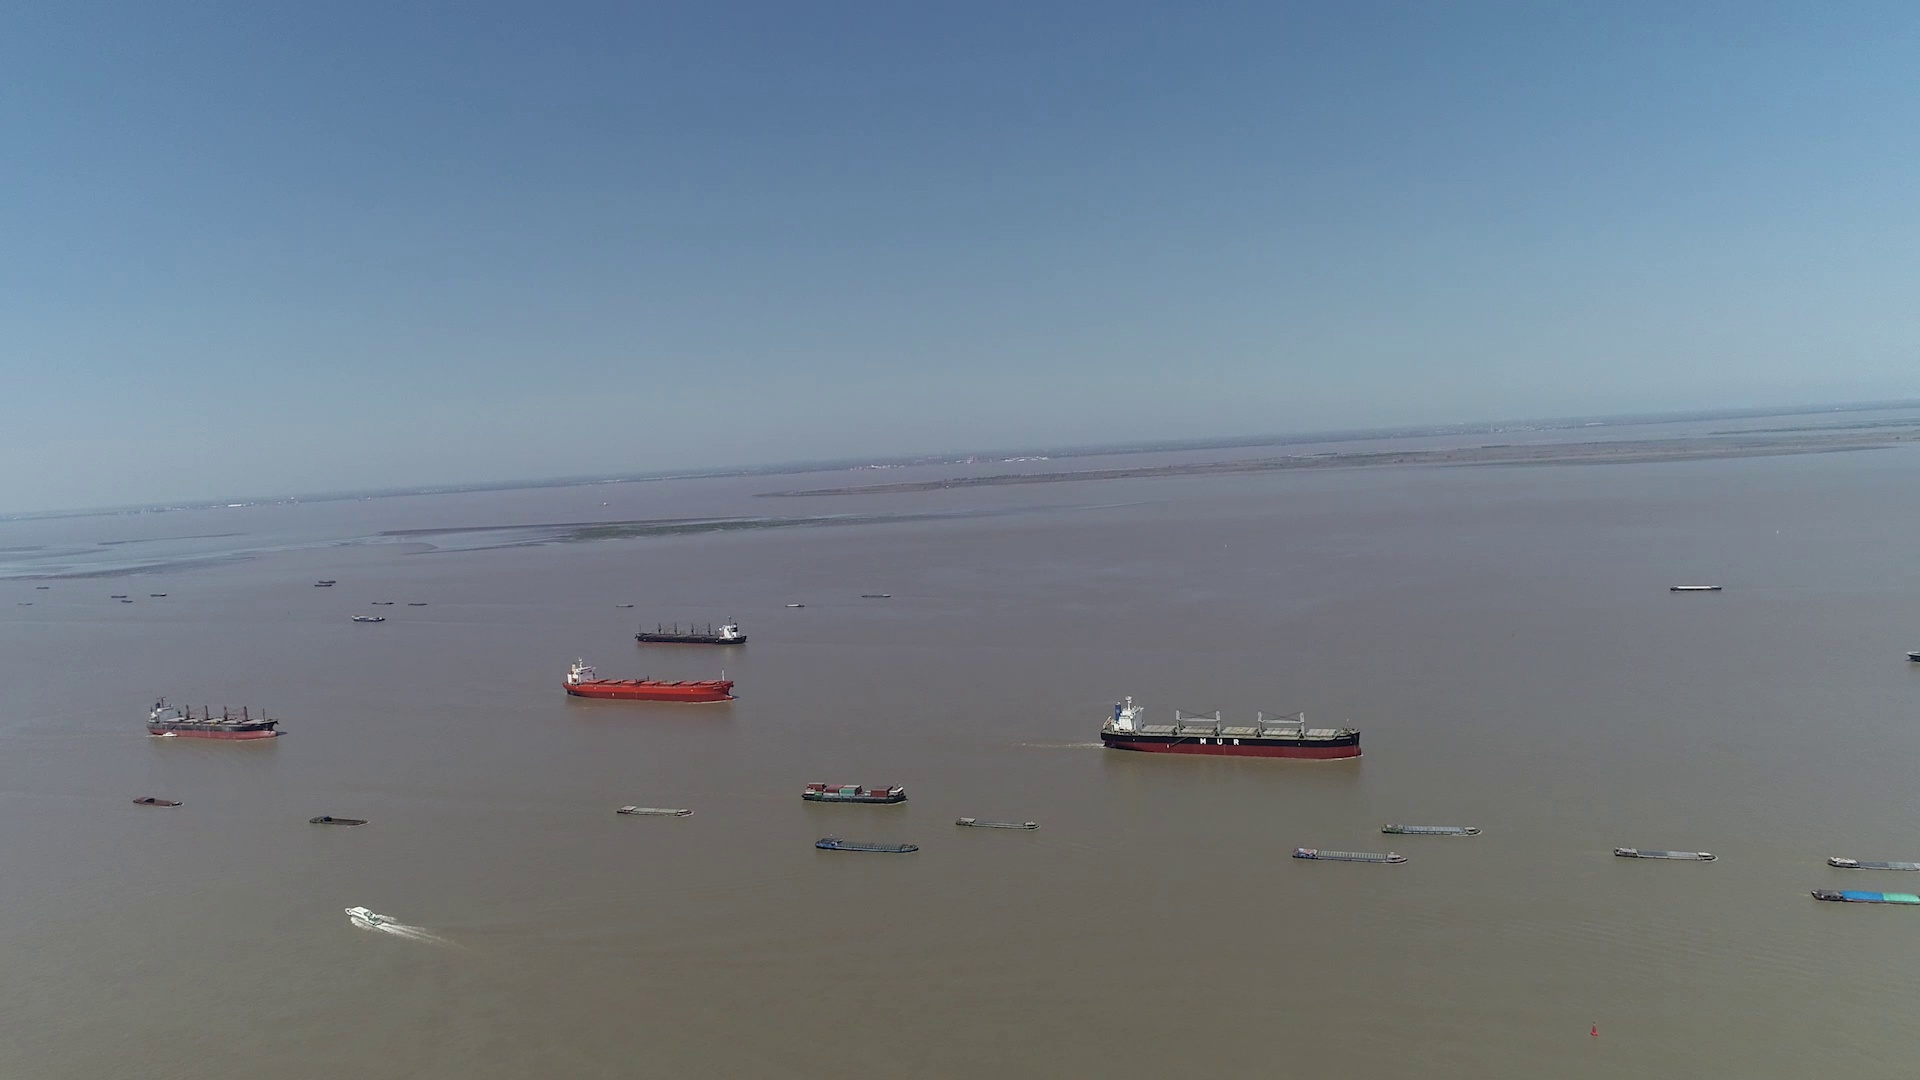ship: (1102, 698, 1362, 760), (562, 659, 733, 703), (146, 696, 280, 738), (636, 617, 746, 645), (800, 779, 909, 803), (1294, 845, 1404, 865), (1811, 887, 1916, 907), (814, 835, 916, 853), (1826, 855, 1920, 874), (345, 905, 411, 932), (1615, 845, 1716, 862), (1377, 822, 1478, 837), (956, 814, 1038, 829), (617, 804, 694, 818), (310, 814, 368, 825), (133, 796, 178, 808), (1669, 583, 1720, 591), (349, 612, 385, 621)
